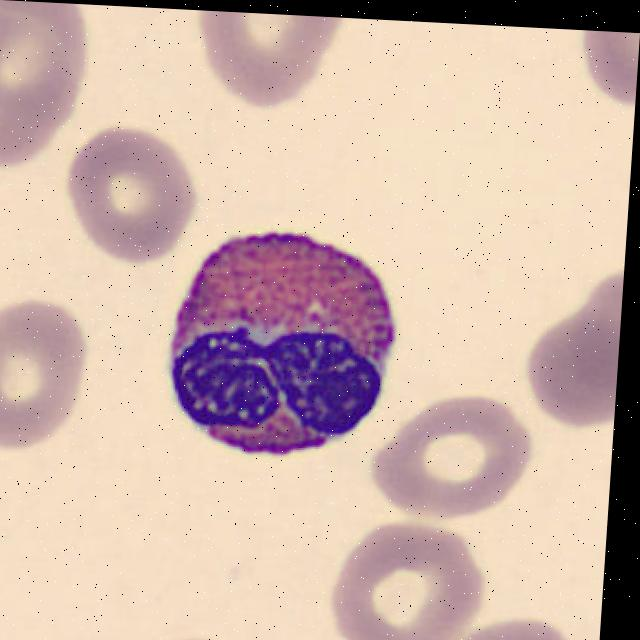eosinophil: (160, 226, 405, 468)
rbc: (352, 385, 534, 531), (53, 125, 209, 273), (324, 516, 491, 640), (190, 10, 353, 120), (0, 288, 94, 455), (0, 9, 83, 180), (523, 308, 621, 433), (0, 0, 94, 118), (562, 255, 625, 390), (555, 29, 640, 110), (446, 612, 578, 640), (146, 618, 261, 640), (94, 5, 178, 16)
